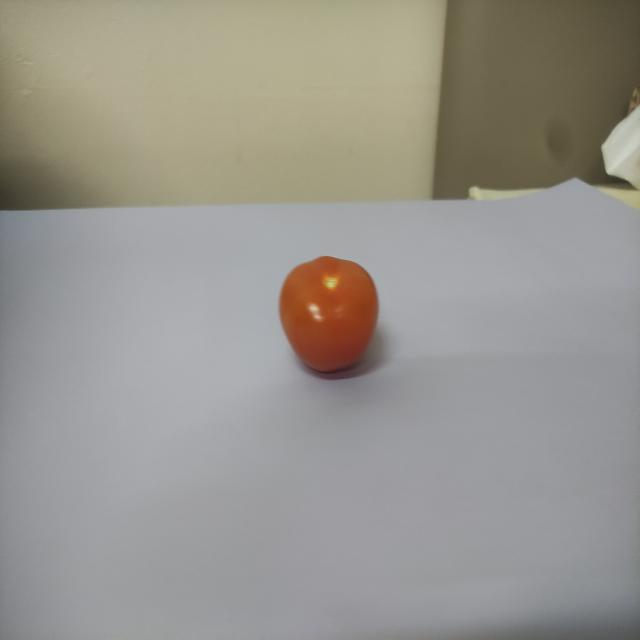sari: (269, 249, 386, 380)
